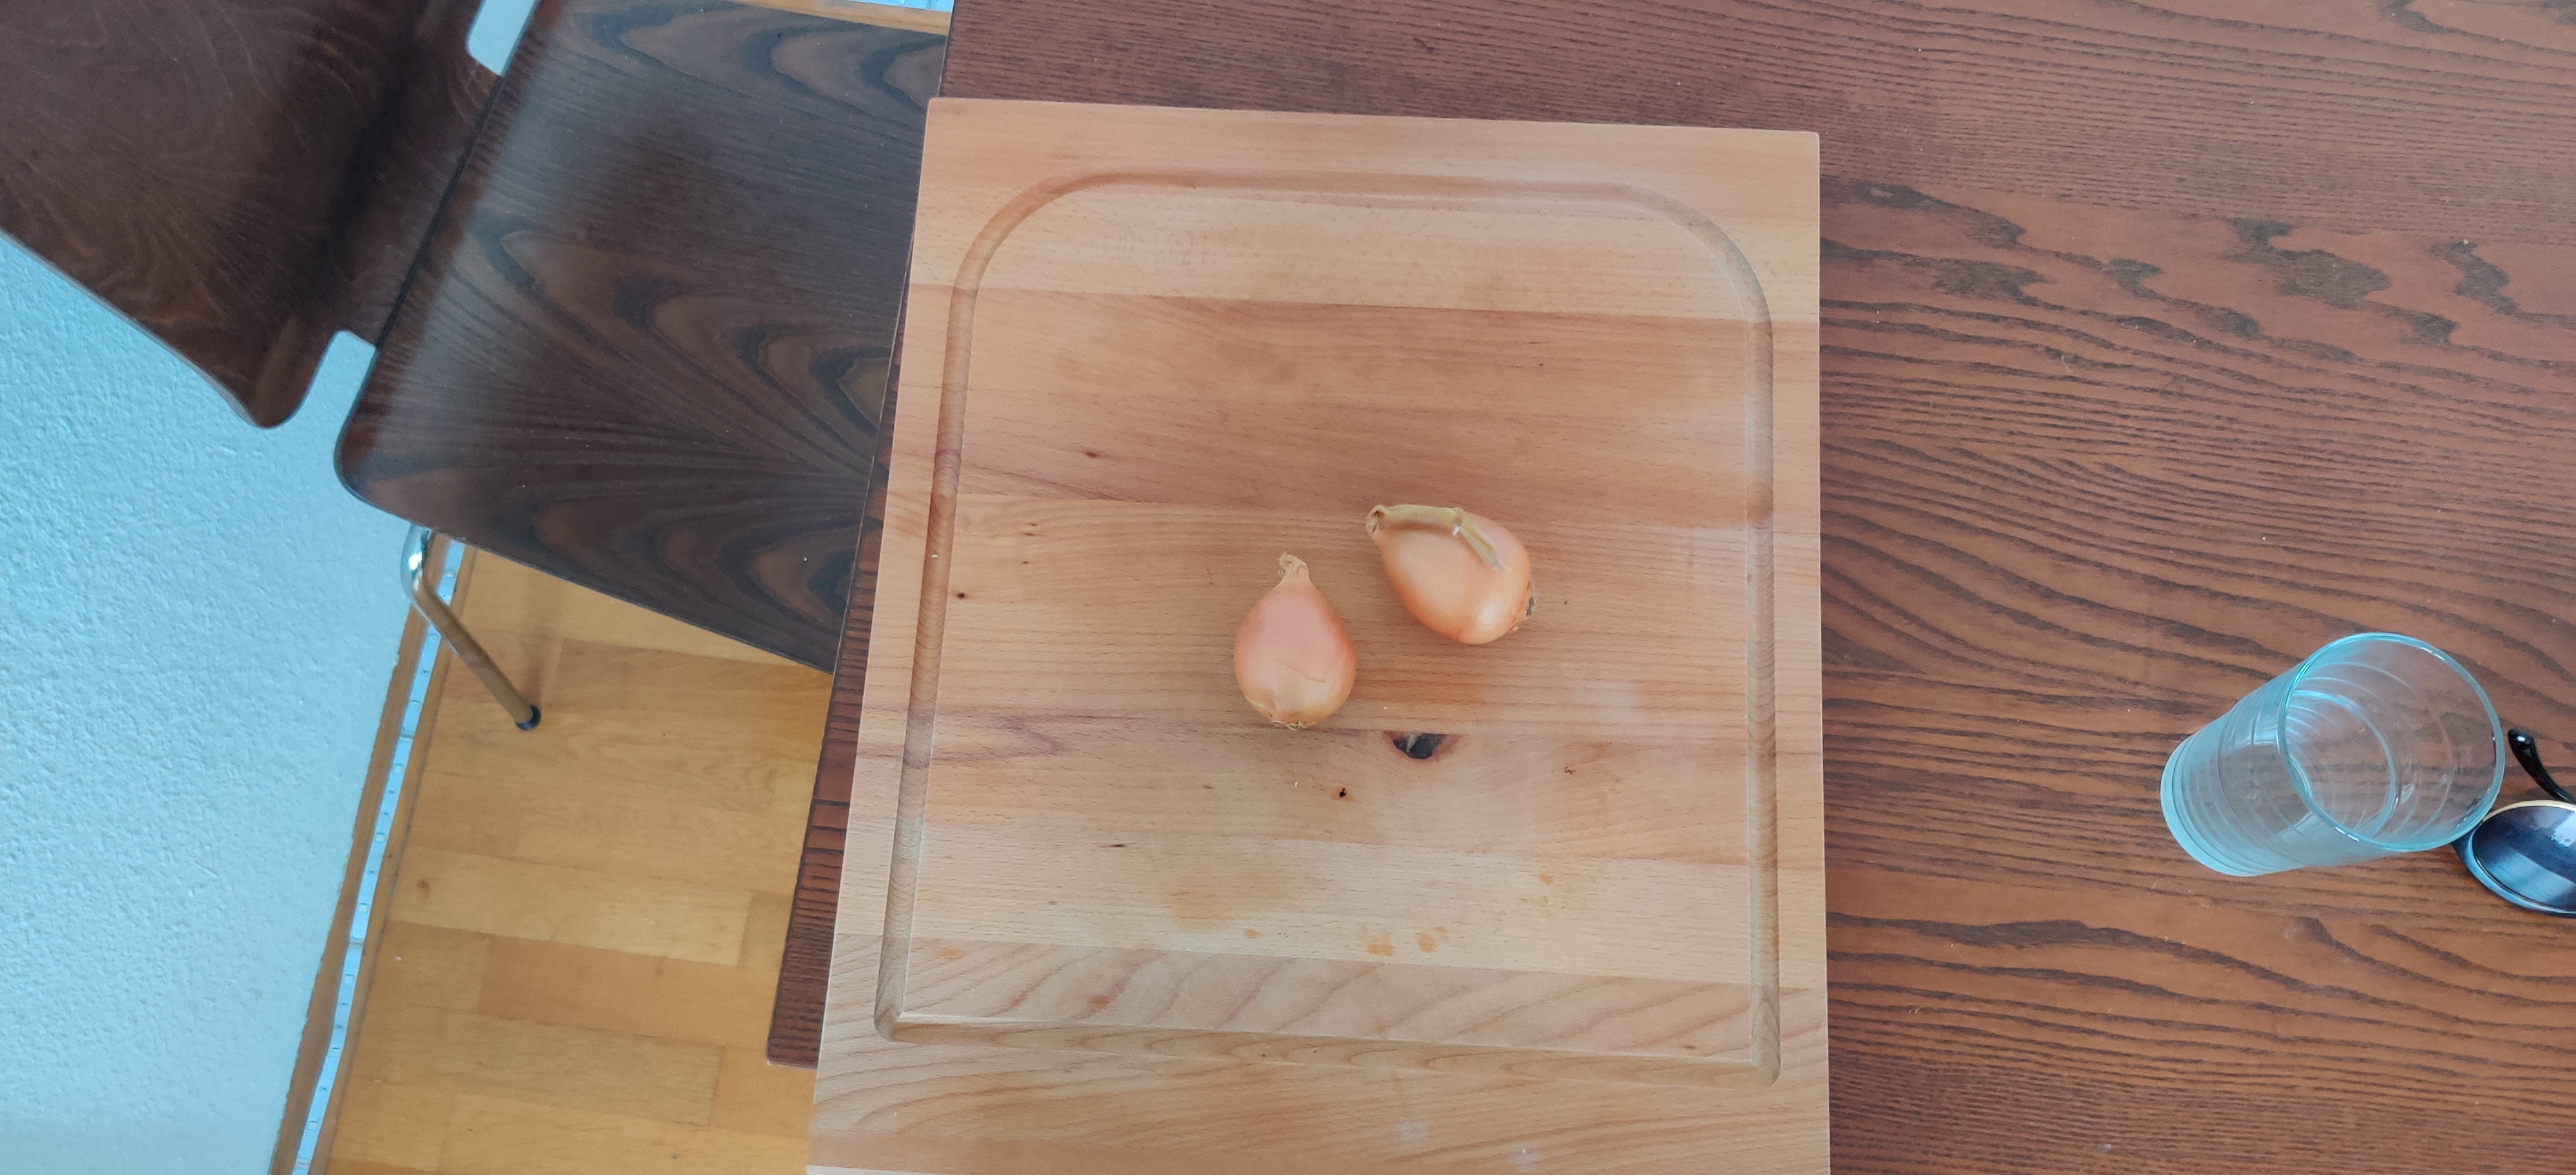Zwiebel: (1368, 501, 1533, 644), (1230, 549, 1357, 730)
